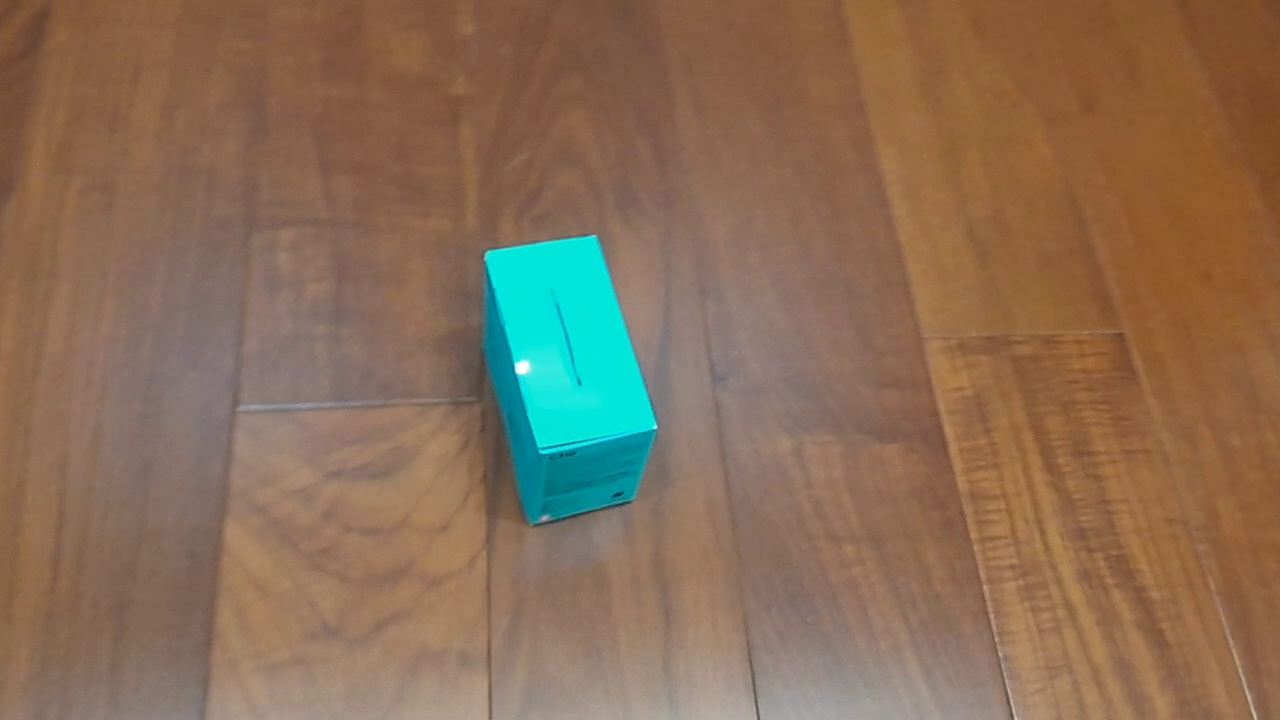webcam: (481, 234, 658, 527)
